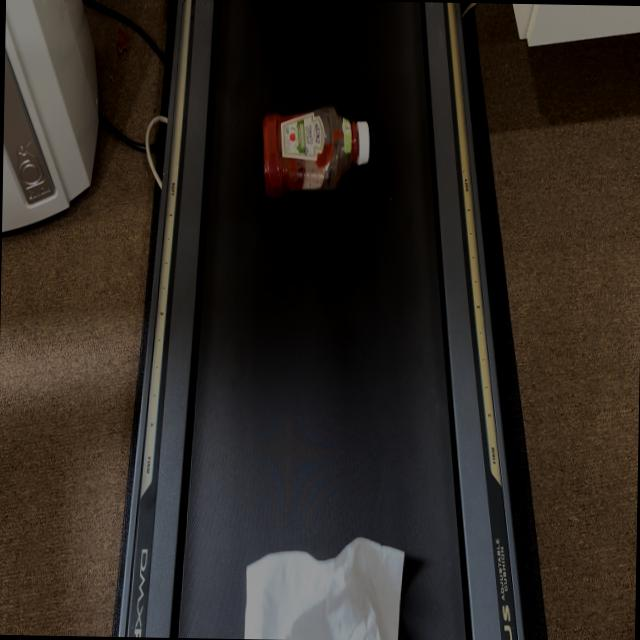Recycle: (243, 537, 404, 640)
Trash: (259, 98, 371, 198)
